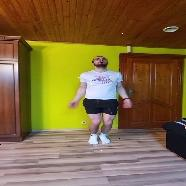high_jumps: (65, 48, 137, 152)
